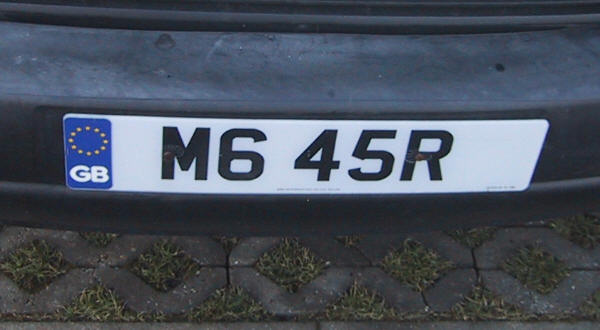license_plate: (62, 113, 550, 196)
